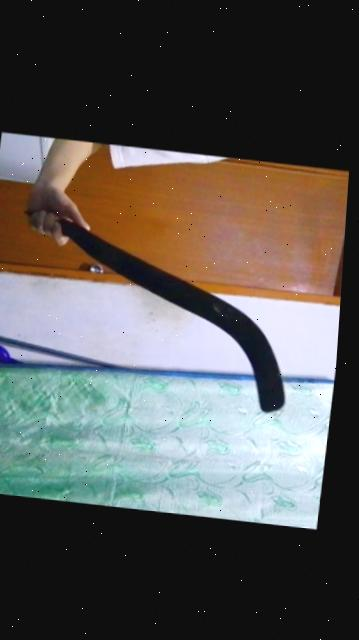long knife: (0, 191, 349, 420)
